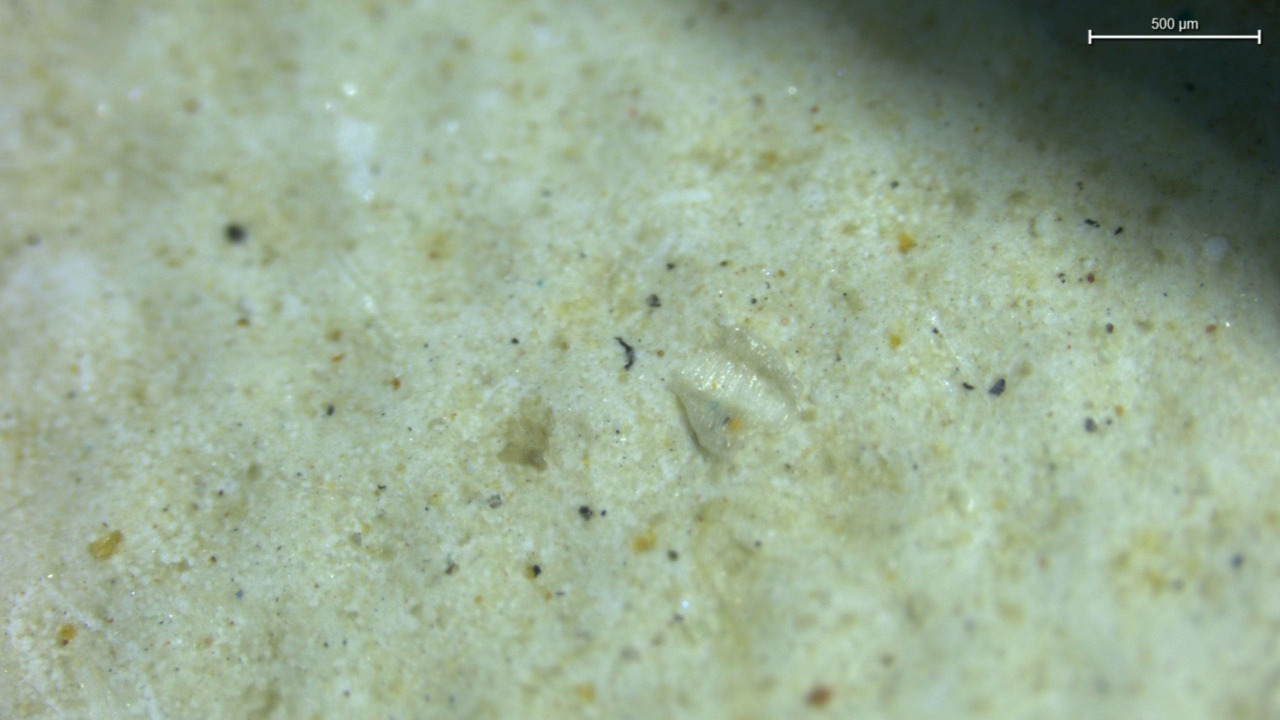microplastic_fragment: (668, 328, 798, 459)
